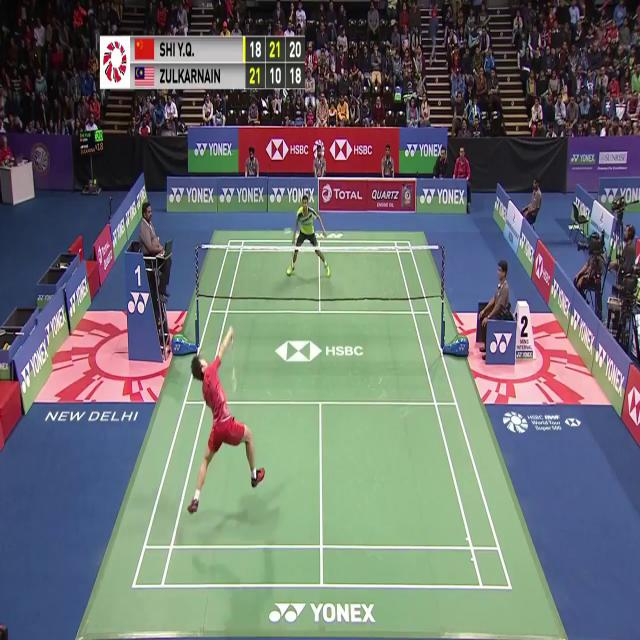Shuttlecock: (286, 227, 292, 239)
